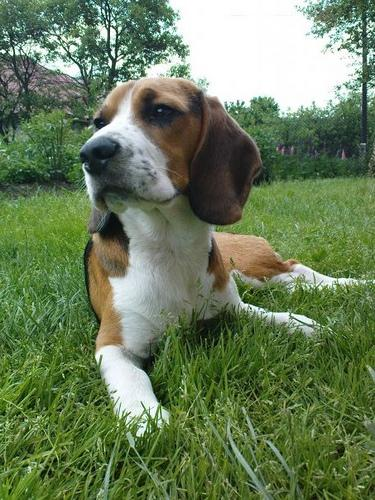dog-beagle: (76, 75, 261, 232)
